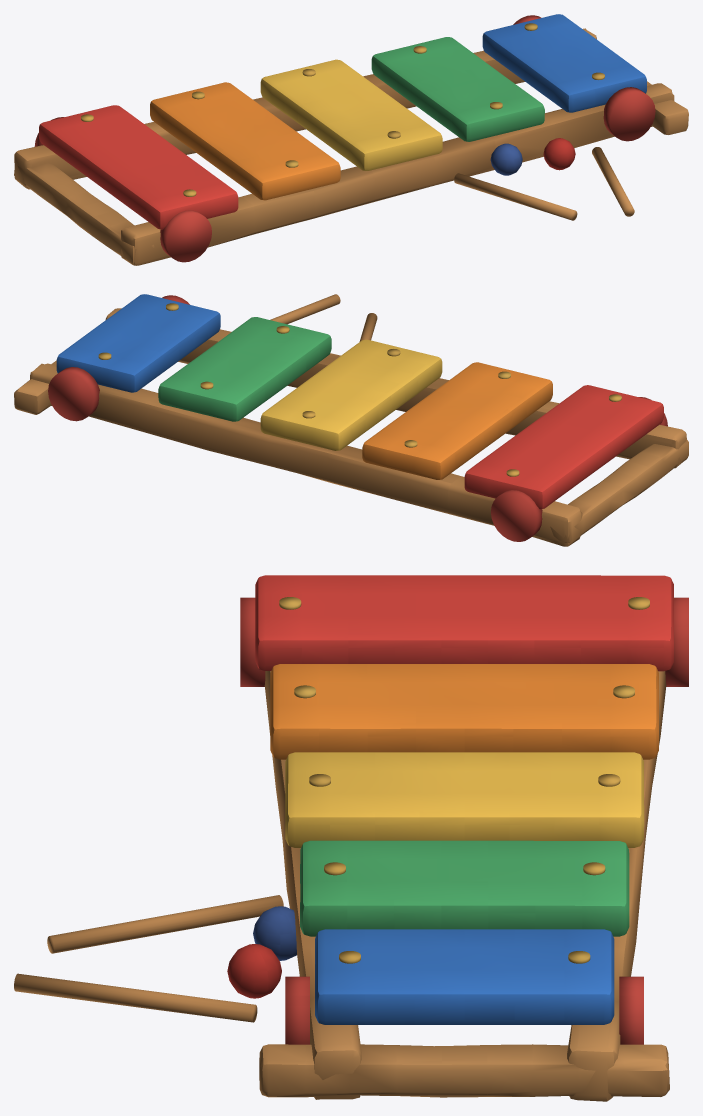
Rendered from den_xylophone.glb.
3 views of the same model, one above another, from view 1: azimuth 30°, elevation 25°; view 2: azimuth 150°, elevation 25°; view 3: azimuth 270°, elevation 25° (orthographic). The views are drawn at different scales.
Visible parts, largest first — view 1: den_xylophone; view 2: den_xylophone; view 3: den_xylophone.
Part boxes in pixels (x1,y1,x2,y2): den_xylophone: (14,14,688,265); den_xylophone: (14,294,688,546); den_xylophone: (14,575,688,1101).
Size of the model in its own units: 22.06 by 2.13 by 13.54.
